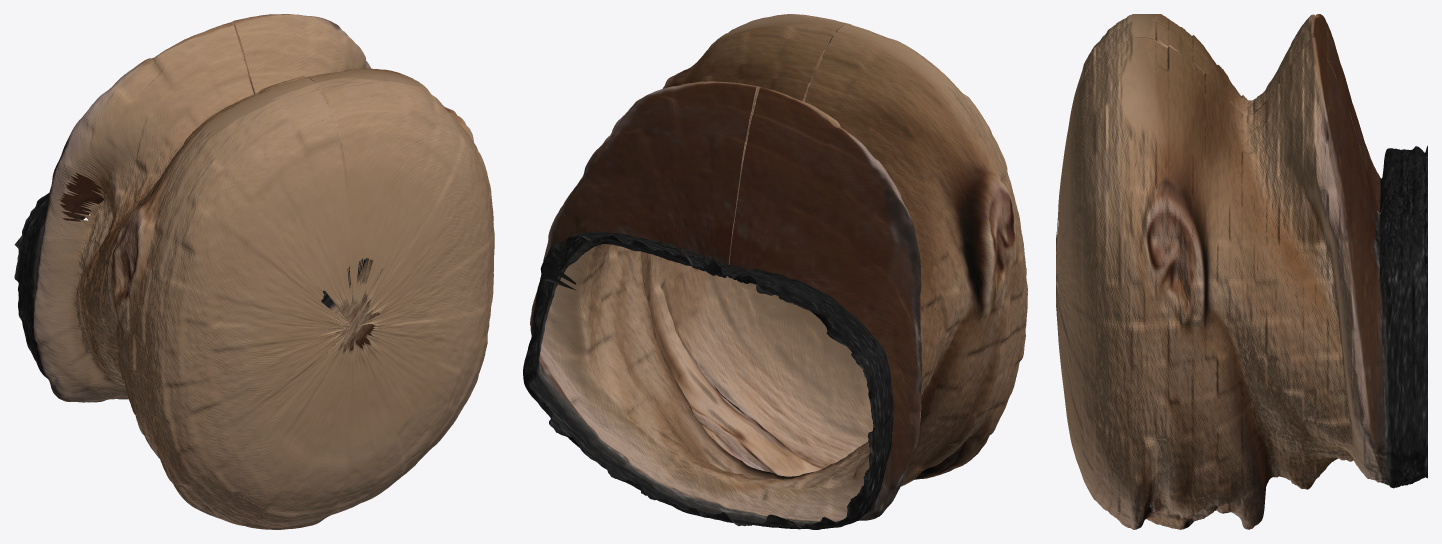
The picture shows the model from 3 angles, left to right: view 1: azimuth 30°, elevation 25°; view 2: azimuth 150°, elevation 25°; view 3: azimuth 270°, elevation 25°; orthographic projection. The views are drawn at different scales.
Visible parts, largest first — view 1: geometry_0; view 2: geometry_0; view 3: geometry_0.
Part boxes in pixels (<box>): geometry_0: <box>14,14,494,529</box>; geometry_0: <box>523,14,1027,529</box>; geometry_0: <box>1056,14,1427,529</box>.
Size of the model in its own units: 1.81 by 2 by 1.42.
1 material, 1 textured.
